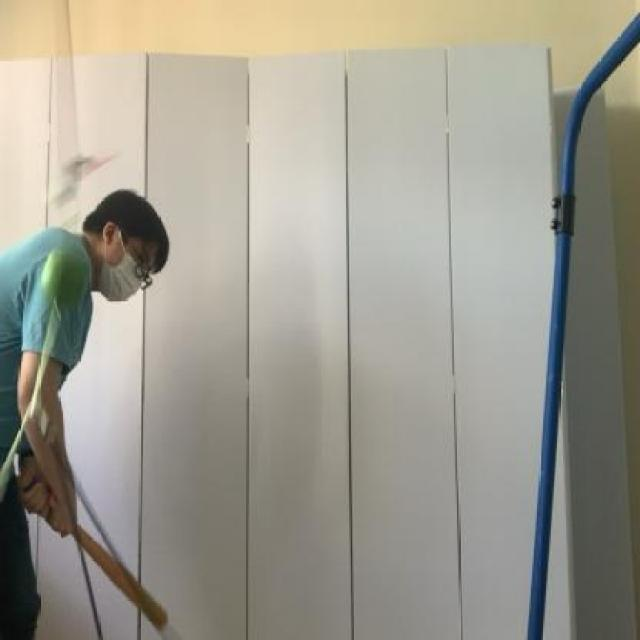baseball: (36, 238, 92, 316)
